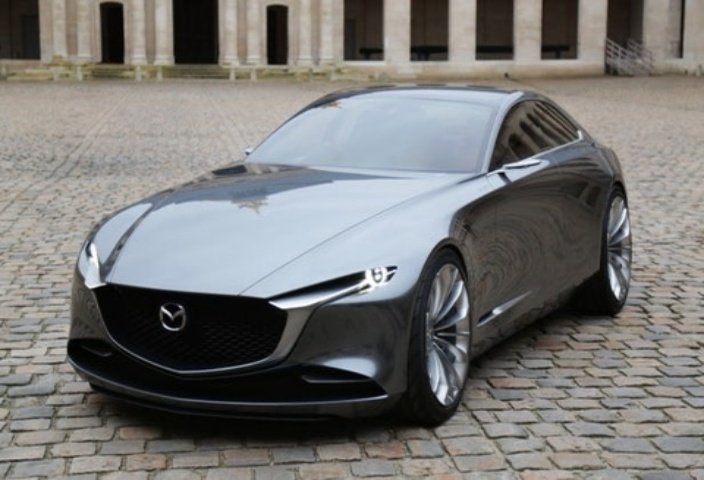car: (22, 48, 650, 420)
